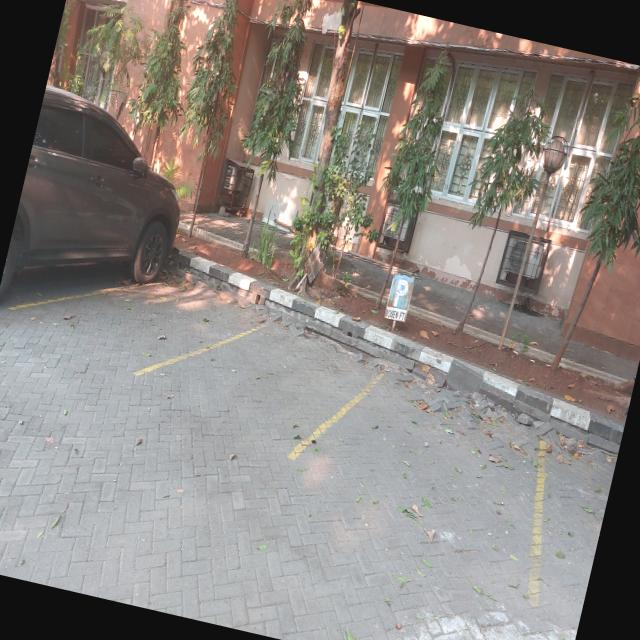free: (293, 362, 544, 598), (138, 315, 395, 458), (11, 274, 288, 373)
